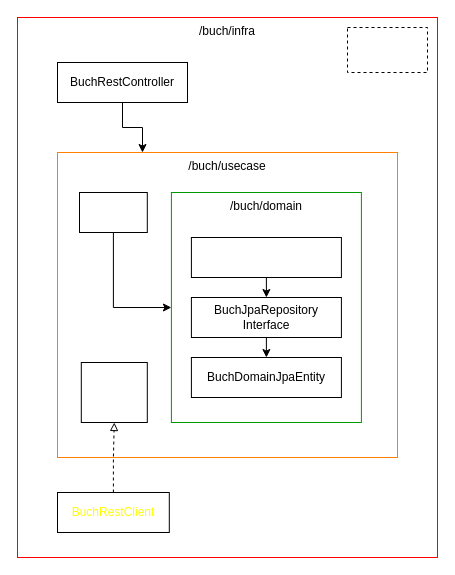
This 455x575 diagram has some shape labels left out. The centre of each missing label's shape, as x and y in pixels:
Buch Client Interface: (113,392)
Buch UseCases: (112,212)
BuchDomainService: (265,257)
ddd onion split client: (387,49)
